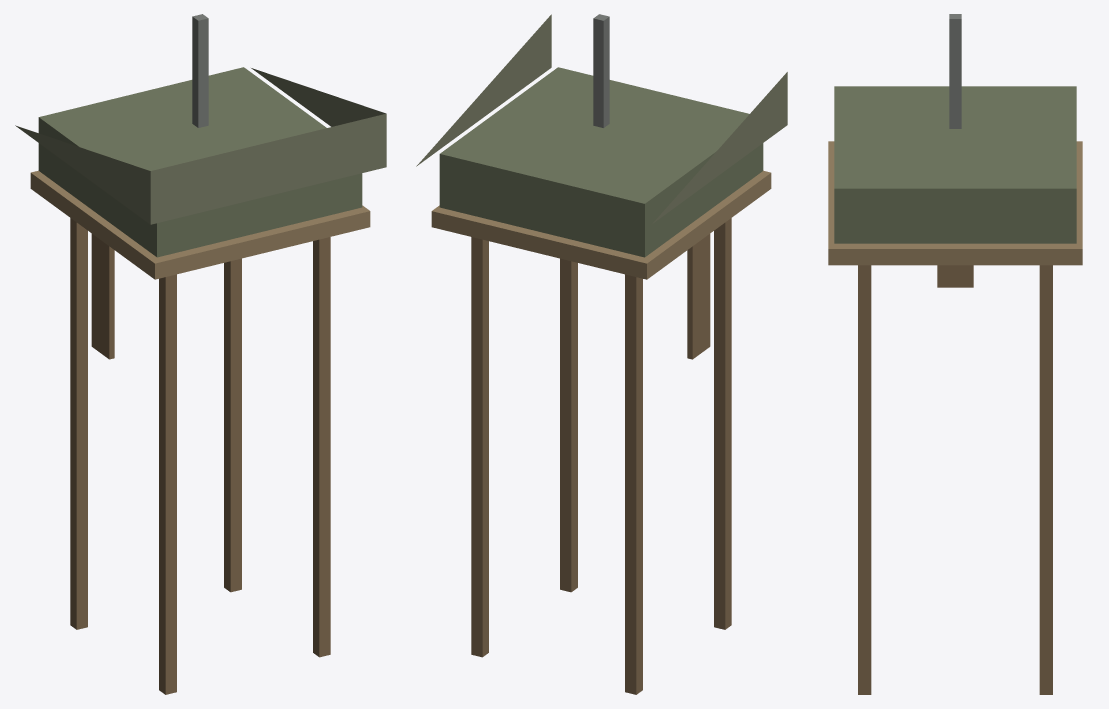
Rendered from i_watchtower.glb.
3 views of the same model, side by side, from view 1: azimuth 30°, elevation 25°; view 2: azimuth 150°, elevation 25°; view 3: azimuth 270°, elevation 25° (orthographic). The views are drawn at different scales.
Parts seen in each view (by area): view 1: body; view 2: body; view 3: body.
Part boxes in pixels (x1,y1,x2,y2): body: (15, 14, 386, 694); body: (416, 14, 787, 694); body: (828, 14, 1082, 694).
Size of the model in its own units: 4.6 by 11.6 by 4.6.
